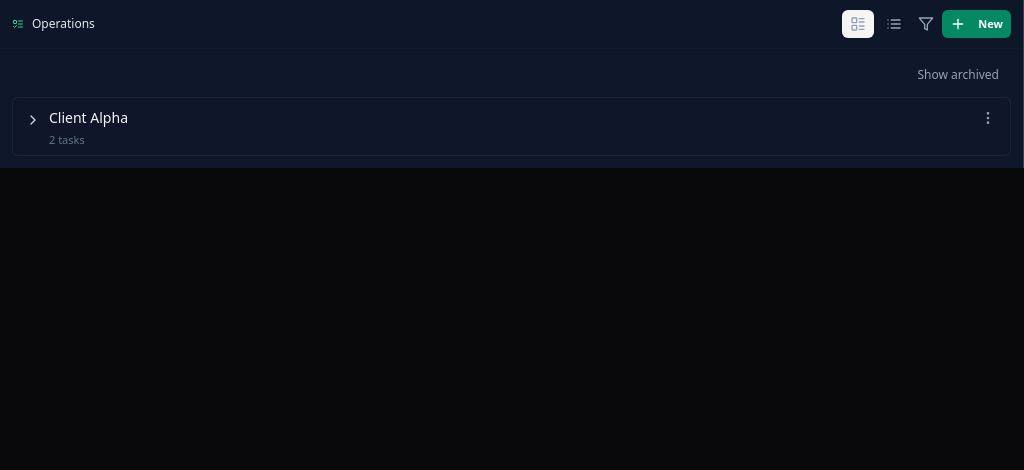
Test: TaskPanel reporting prepare shortcut › disables only the task card with a pending prepare action
The image size is (1024, 470).
Click the button "Client Alpha".
click(88, 118)  # box [49, 108, 128, 128]
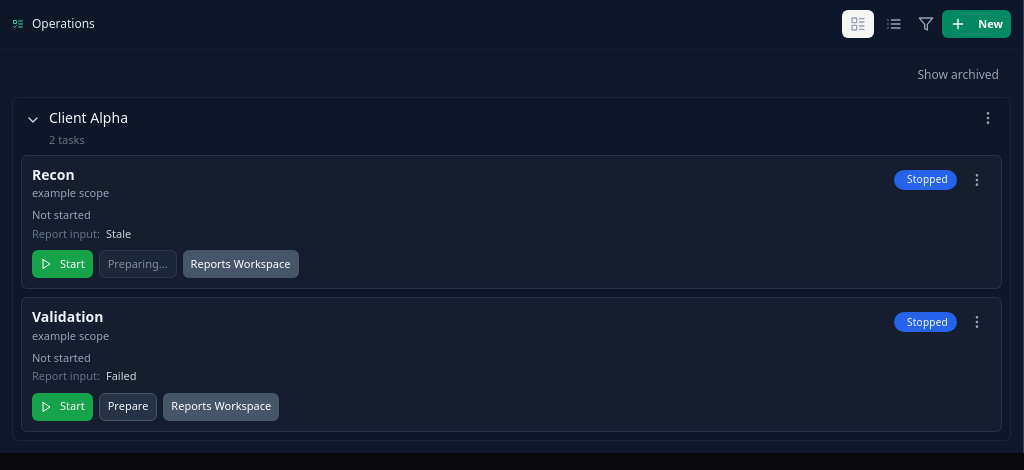
Check: the button "Preparing..." is disabled, box [99, 250, 177, 278]
Check: the button "Prepare" is enabled, box [99, 392, 157, 420]
